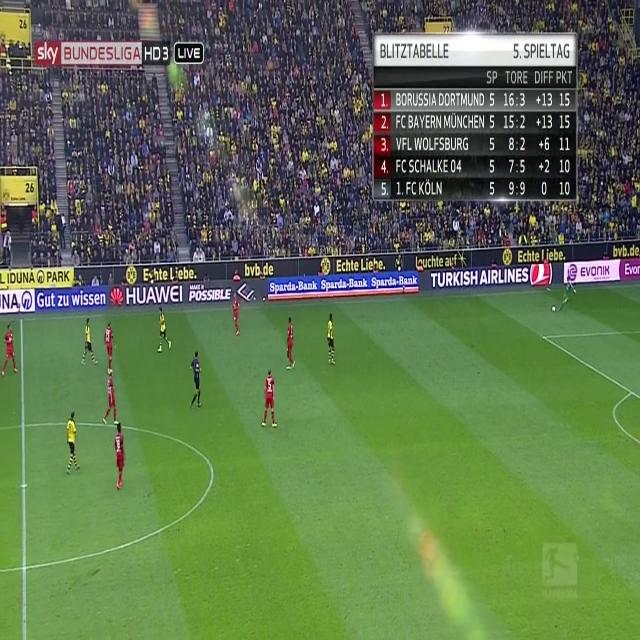Ball: (550, 303, 558, 314)
Goalkeeper: (558, 276, 578, 310)
Player: (64, 407, 82, 482), (101, 371, 121, 428), (260, 371, 278, 431), (80, 316, 100, 369), (0, 322, 18, 379), (113, 424, 126, 492), (156, 306, 173, 356), (285, 314, 298, 374), (103, 320, 117, 375), (326, 312, 336, 368), (232, 290, 241, 338)
Referee: (187, 347, 206, 411)
